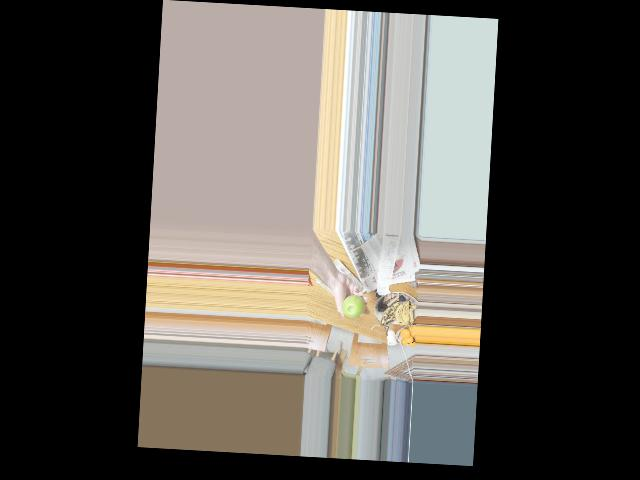apple: (339, 293, 364, 319)
